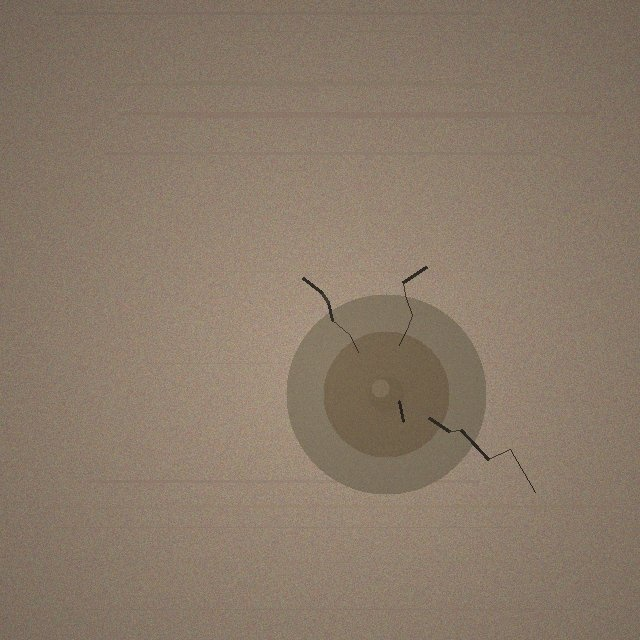crack: (286, 294, 486, 494)
